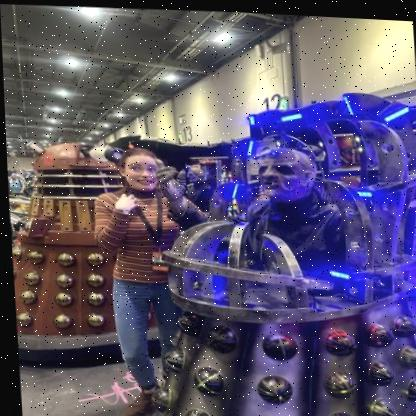dalek: (9, 117, 141, 384)
person: (60, 127, 220, 414)
